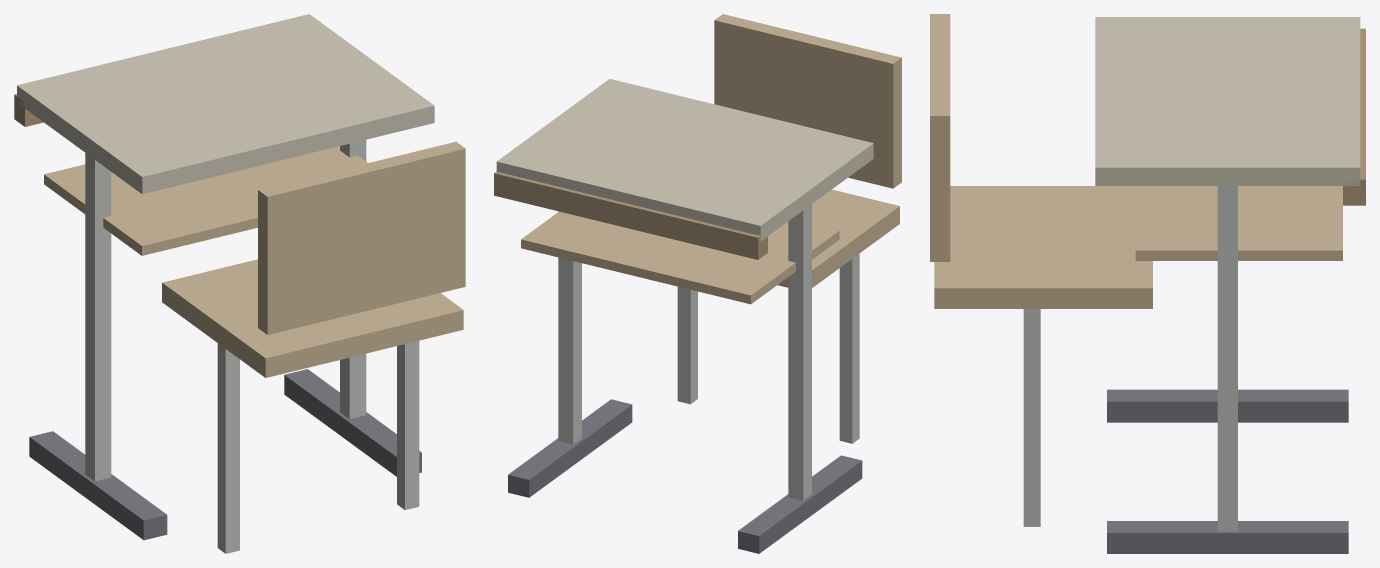
The model's file is mov_2f68c292e1.gltf.
The picture shows the model from 3 angles, left to right: view 1: azimuth 30°, elevation 25°; view 2: azimuth 150°, elevation 25°; view 3: azimuth 270°, elevation 25°; orthographic projection. The views are drawn at different scales.
Visible parts, largest first — view 1: mov_2f68c292e1; view 2: mov_2f68c292e1; view 3: mov_2f68c292e1.
Part boxes in pixels (left/top/right/bottom): mov_2f68c292e1: left=14, top=14, right=465, bottom=553; mov_2f68c292e1: left=494, top=14, right=901, bottom=553; mov_2f68c292e1: left=930, top=14, right=1365, bottom=553.
Bounding box in the file's own units: 0.62 × 0.8 × 0.7575.
